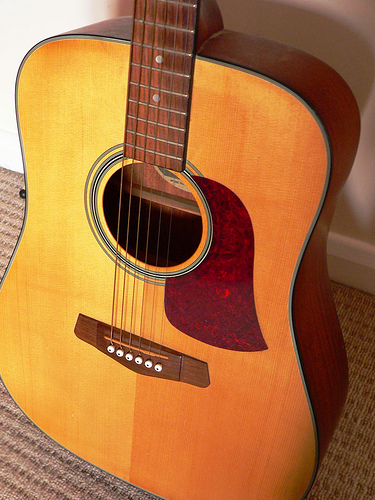guitar: (1, 1, 360, 497)
